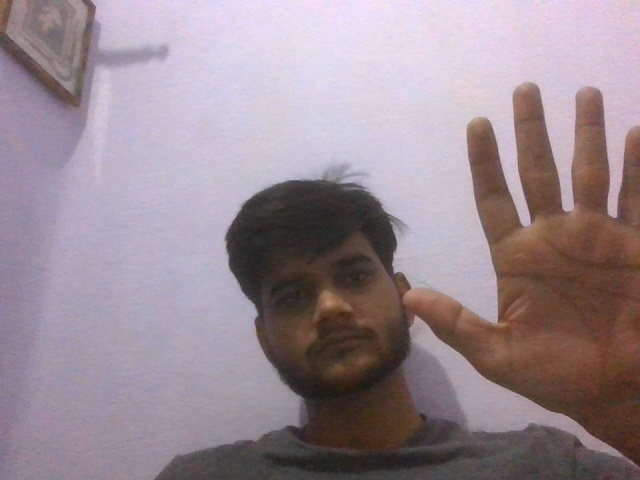hello: (401, 75, 640, 475)
